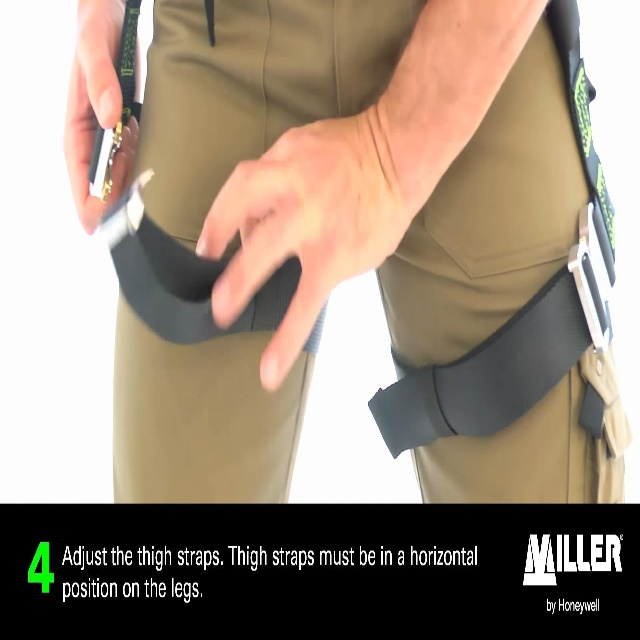Arnes_seguridad: (73, 0, 628, 469)
